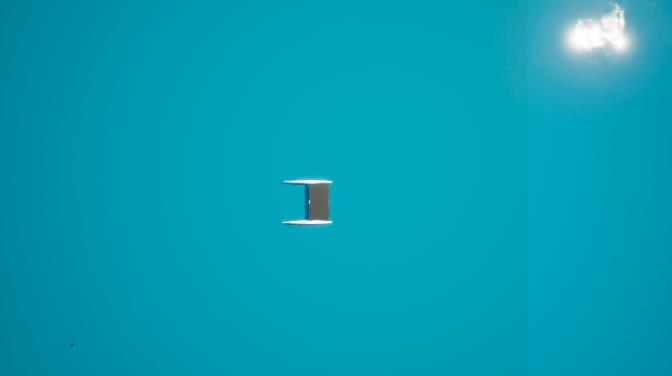boat: (281, 178, 335, 229)
drone: (69, 340, 78, 351)
land_base: (309, 183, 329, 221)
light_reflex: (546, 0, 652, 74)
